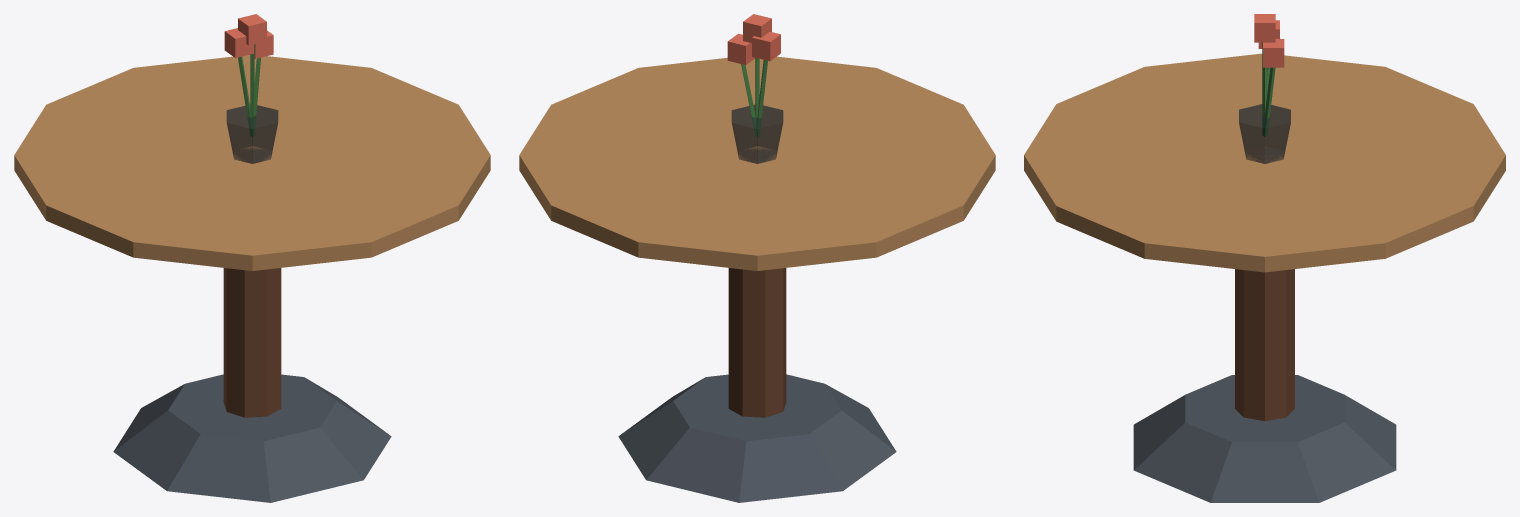
The model's file is table_round.glb.
3 renders of one model, left to right at view 1: azimuth 30°, elevation 25°; view 2: azimuth 150°, elevation 25°; view 3: azimuth 270°, elevation 25°, orthographic.
Parts seen in each view (by area): view 1: Body; view 2: Body; view 3: Body.
Part boxes in pixels (left/top/right/bottom): Body: left=14, top=14, right=490, bottom=502; Body: left=519, top=14, right=995, bottom=502; Body: left=1024, top=14, right=1505, bottom=502.
Bounding box in the file's own units: 1.12 × 1.1 × 1.12.
